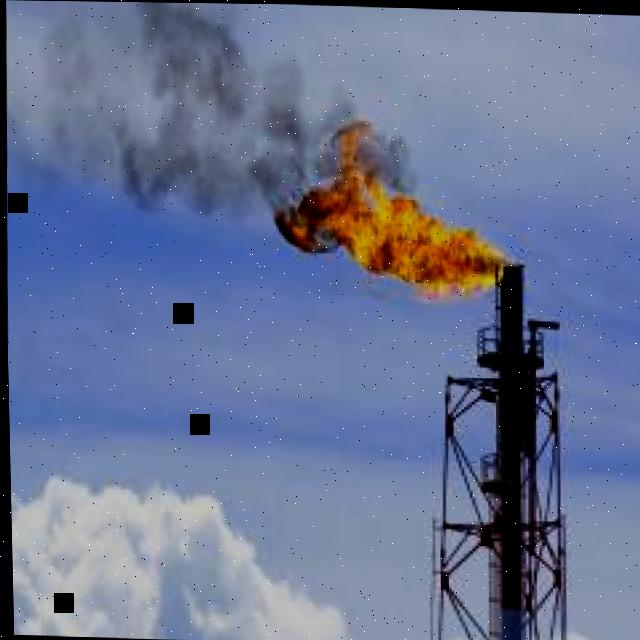fire: (271, 118, 504, 300)
smoke: (6, 1, 357, 219), (378, 132, 415, 194)
